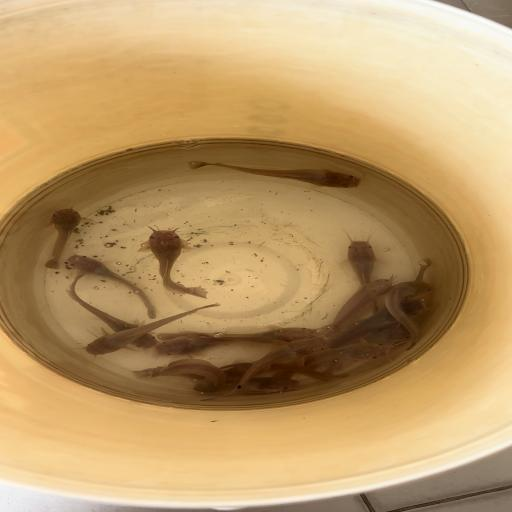lele: (199, 336, 328, 402), (62, 270, 160, 350), (84, 302, 220, 356), (64, 254, 155, 319), (187, 158, 362, 190), (138, 224, 210, 300), (328, 298, 428, 343), (320, 278, 393, 335), (384, 278, 433, 350), (130, 358, 228, 393), (342, 236, 384, 314), (156, 325, 321, 343), (42, 207, 86, 269), (216, 360, 350, 380), (297, 340, 396, 364), (155, 334, 244, 356), (345, 326, 414, 344), (223, 376, 301, 390)
